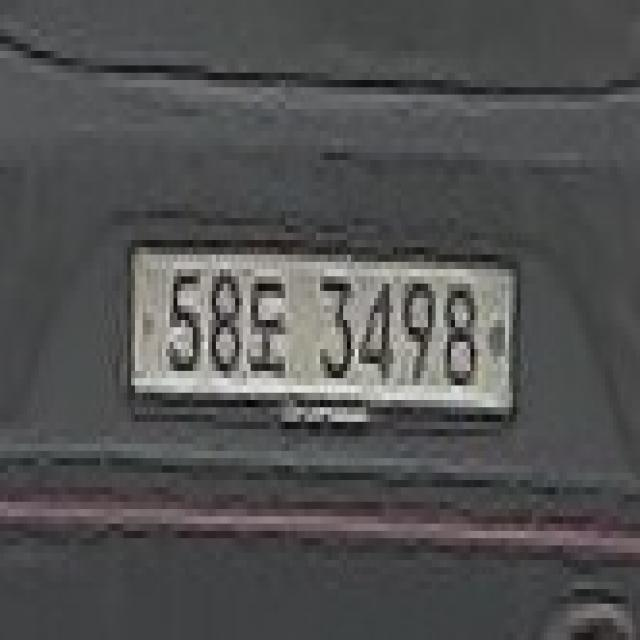3: (312, 269, 355, 381)
4: (359, 270, 396, 388)
5: (164, 267, 202, 374)
8: (204, 264, 242, 376), (444, 274, 479, 390)
9: (399, 267, 438, 388)
do: (246, 268, 288, 382)
license_plate: (126, 227, 524, 430)
